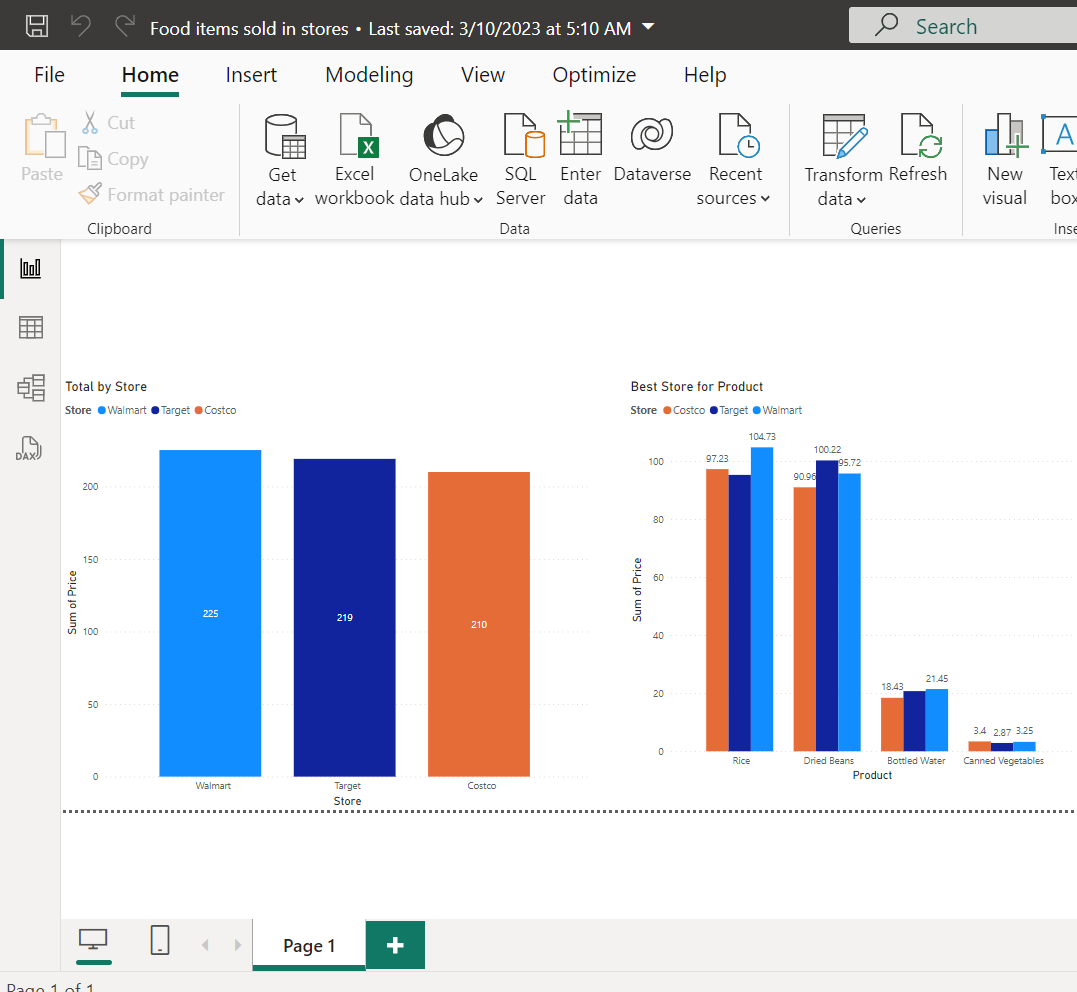

This screenshot's page, from the dashboard's own definition file:
{"tool":"powerbi","page":{"name":"Page 1","canvas":[1280,720],"ordinal":0},"visuals":[{"type":"columnChart","title":"Total by Store ","fields":{"Category":["Sheet1.Store"],"Y":["Sum(Sheet1.Price)"],"Series":["Sheet1.Store"]},"box":[0,176.4,670.2,544.3],"z":0},{"type":"clusteredColumnChart","title":"Best Store for Product","fields":{"Category":["Sheet1.Product"],"Y":["Sum(Sheet1.Price)"],"Series":["Sheet1.Store"]},"box":[712.2,176.4,567.8,512.3],"z":1}]}

Visuals, with their boxes on the page's 1280x720 design canvas (x1, y1, x2, y2). These are canvas units, not pixel positions in the 1077x992 screenshot, which may show the page scaled, cropped or inside an application window:
"Total by Store " columnChart: (left=0, top=176, right=670, bottom=721)
"Best Store for Product" clusteredColumnChart: (left=712, top=176, right=1280, bottom=689)
